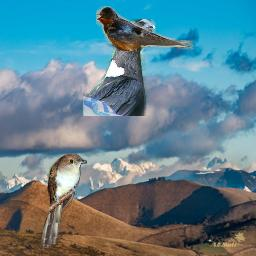Crow: (83, 19, 156, 116)
Cuckoo: (41, 153, 87, 248)
Swallow: (96, 6, 194, 51)
